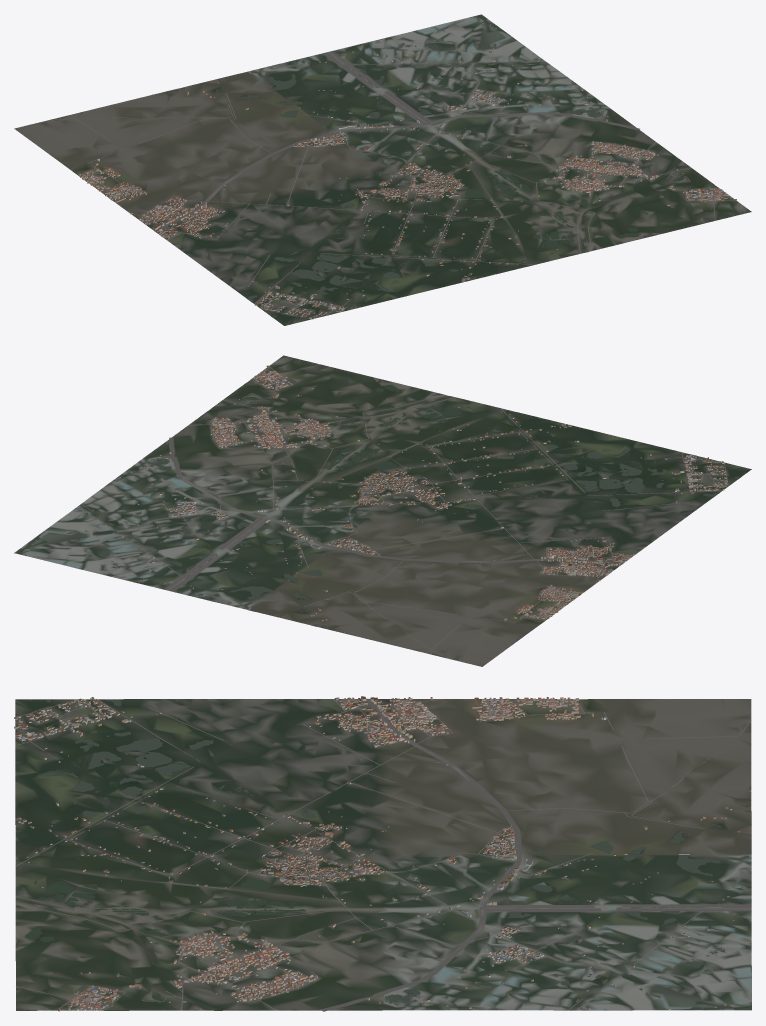
3 renders of one model, top to bottom at view 1: azimuth 30°, elevation 25°; view 2: azimuth 150°, elevation 25°; view 3: azimuth 270°, elevation 25°, orthographic. The views are drawn at different scales.
Visible parts, largest first — view 1: ground, buildings, roads, water; view 2: ground, buildings, roads, water; view 3: ground, buildings, roads, water.
Part boxes in pixels (bbox=[...]): ground: bbox=[14, 14, 751, 325]; buildings: bbox=[77, 22, 736, 319]; roads: bbox=[46, 38, 734, 319]; water: bbox=[181, 39, 683, 317]; ground: bbox=[14, 355, 751, 666]; buildings: bbox=[31, 365, 727, 632]; roads: bbox=[78, 364, 728, 659]; water: bbox=[69, 385, 739, 625]; ground: bbox=[15, 699, 751, 1010]; buildings: bbox=[14, 696, 751, 1011]; roads: bbox=[15, 698, 751, 1011]; water: bbox=[22, 699, 751, 1010].
Bounding box in the file's own units: 2824 × 25.86 × 2811.
